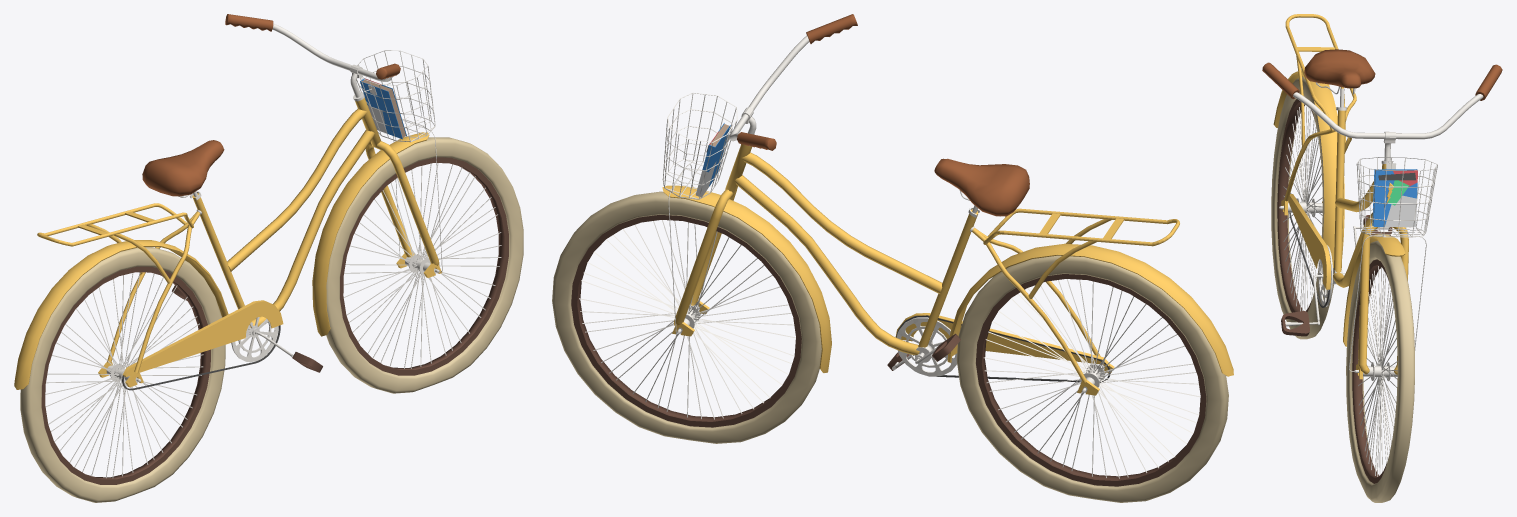
The model's file is bike.glb.
The picture shows the model from 3 angles, left to right: view 1: azimuth 30°, elevation 25°; view 2: azimuth 150°, elevation 25°; view 3: azimuth 270°, elevation 25°; orthographic projection. The views are drawn at different scales.
Visible parts, largest first — view 1: Cylinder.017_Material.006_0, Cylinder.005_Material.001_0, Cylinder.015_Material.002_0, Cylinder.017_Material.004_0, Cylinder.013_Material.005_0, Circle.004_Material.001_0, Cube.007_Material.010_0, Circle.003_Material.002_0; view 2: Cylinder.017_Material.006_0, Cylinder.005_Material.001_0, Cylinder.015_Material.002_0, Cylinder.017_Material.004_0, Cylinder.013_Material.005_0, Circle.004_Material.001_0, Circle.003_Material.002_0; view 3: Cylinder.015_Material.002_0, Cylinder.017_Material.006_0, Cylinder.005_Material.001_0, Cylinder.017_Material.004_0, Cylinder.013_Material.005_0, Circle.004_Material.001_0, Cube.007_Material.010_0, Cube.007_Material.008_0, Circle.003_Material.002_0, Cube.007_Material.009_0.
Part boxes in pixels (box(x1,y1,x2,y2)): Cylinder.017_Material.006_0: box(20, 137, 523, 502); Cylinder.005_Material.001_0: box(14, 97, 441, 389); Cylinder.015_Material.002_0: box(45, 23, 501, 478); Cylinder.017_Material.004_0: box(41, 157, 508, 484); Cylinder.013_Material.005_0: box(142, 14, 400, 196); Circle.004_Material.001_0: box(122, 300, 283, 376); Cube.007_Material.010_0: box(360, 78, 406, 139); Circle.003_Material.002_0: box(231, 317, 278, 362); Cylinder.017_Material.006_0: box(552, 191, 1228, 502); Cylinder.005_Material.001_0: box(662, 144, 1233, 395); Cylinder.015_Material.002_0: box(579, 35, 1200, 478); Cylinder.017_Material.004_0: box(571, 215, 1206, 486); Cylinder.013_Material.005_0: box(737, 14, 1029, 216); Circle.004_Material.001_0: box(895, 313, 1109, 366); Circle.003_Material.002_0: box(896, 317, 957, 376); Cylinder.015_Material.002_0: box(1279, 82, 1483, 476); Cylinder.017_Material.006_0: box(1271, 77, 1414, 502); Cylinder.005_Material.001_0: box(1273, 14, 1408, 379); Cylinder.017_Material.004_0: box(1277, 99, 1392, 483); Cylinder.013_Material.005_0: box(1262, 49, 1502, 100); Circle.004_Material.001_0: box(1288, 194, 1330, 289); Cube.007_Material.010_0: box(1372, 169, 1417, 226); Cube.007_Material.008_0: box(1385, 195, 1416, 226); Circle.003_Material.002_0: box(1318, 227, 1388, 306); Cube.007_Material.009_0: box(1388, 180, 1409, 205).
Size of the model in its own units: 1.75 by 1.12 by 0.6433.
